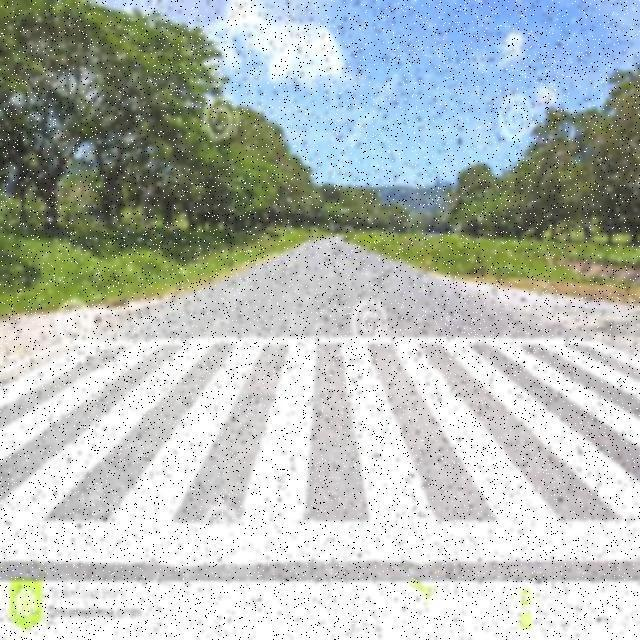crosswalk: (0, 336, 640, 564)
